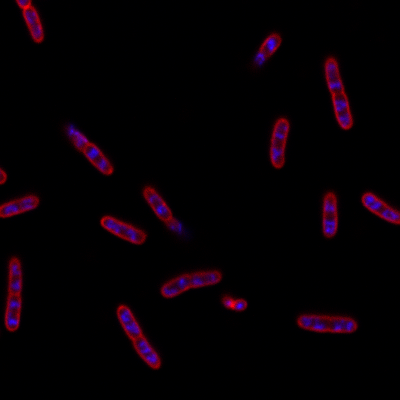Control: (117, 304, 162, 371), (322, 55, 354, 131), (159, 269, 223, 298), (3, 256, 25, 334), (99, 214, 146, 245), (294, 312, 357, 334), (0, 192, 40, 220), (269, 116, 290, 169), (321, 190, 339, 239)
Oblique: (60, 120, 114, 176), (143, 183, 188, 236), (248, 32, 281, 73), (219, 292, 248, 314)
